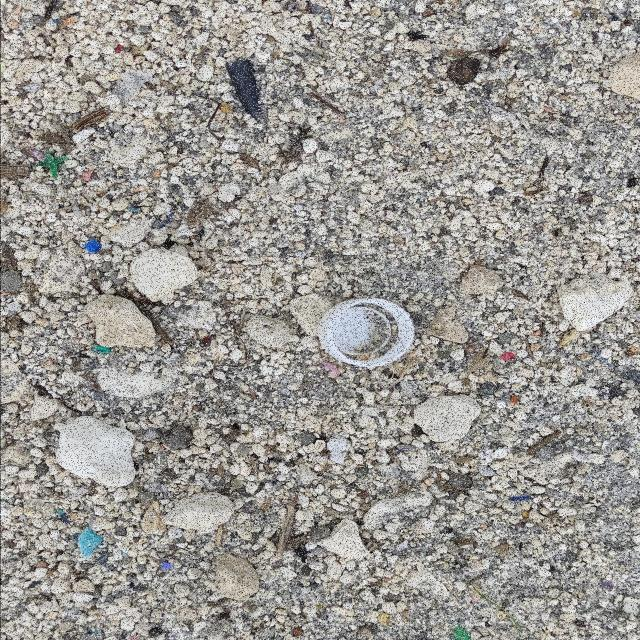plastic_waste: (319, 299, 416, 368)
